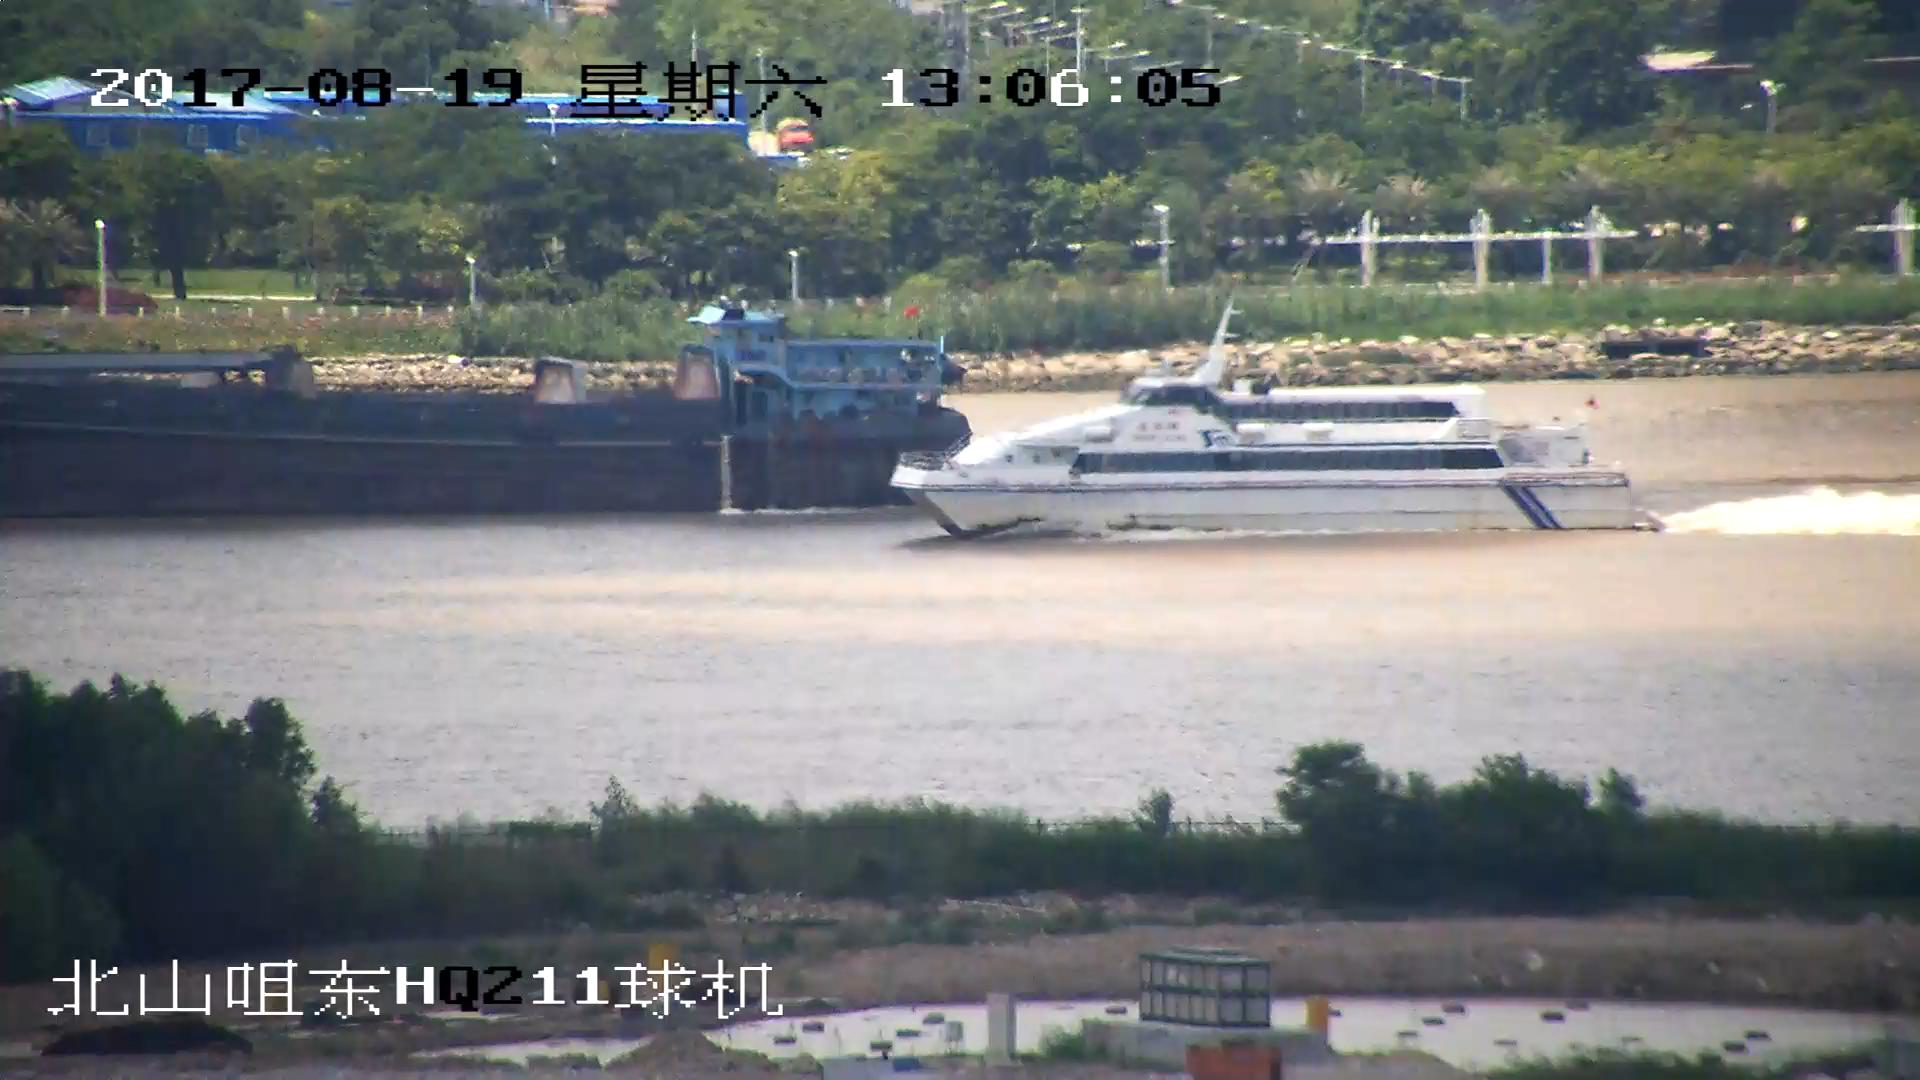bulk cargo carrier: (1, 300, 971, 515)
passenger ship: (889, 294, 1639, 540)
